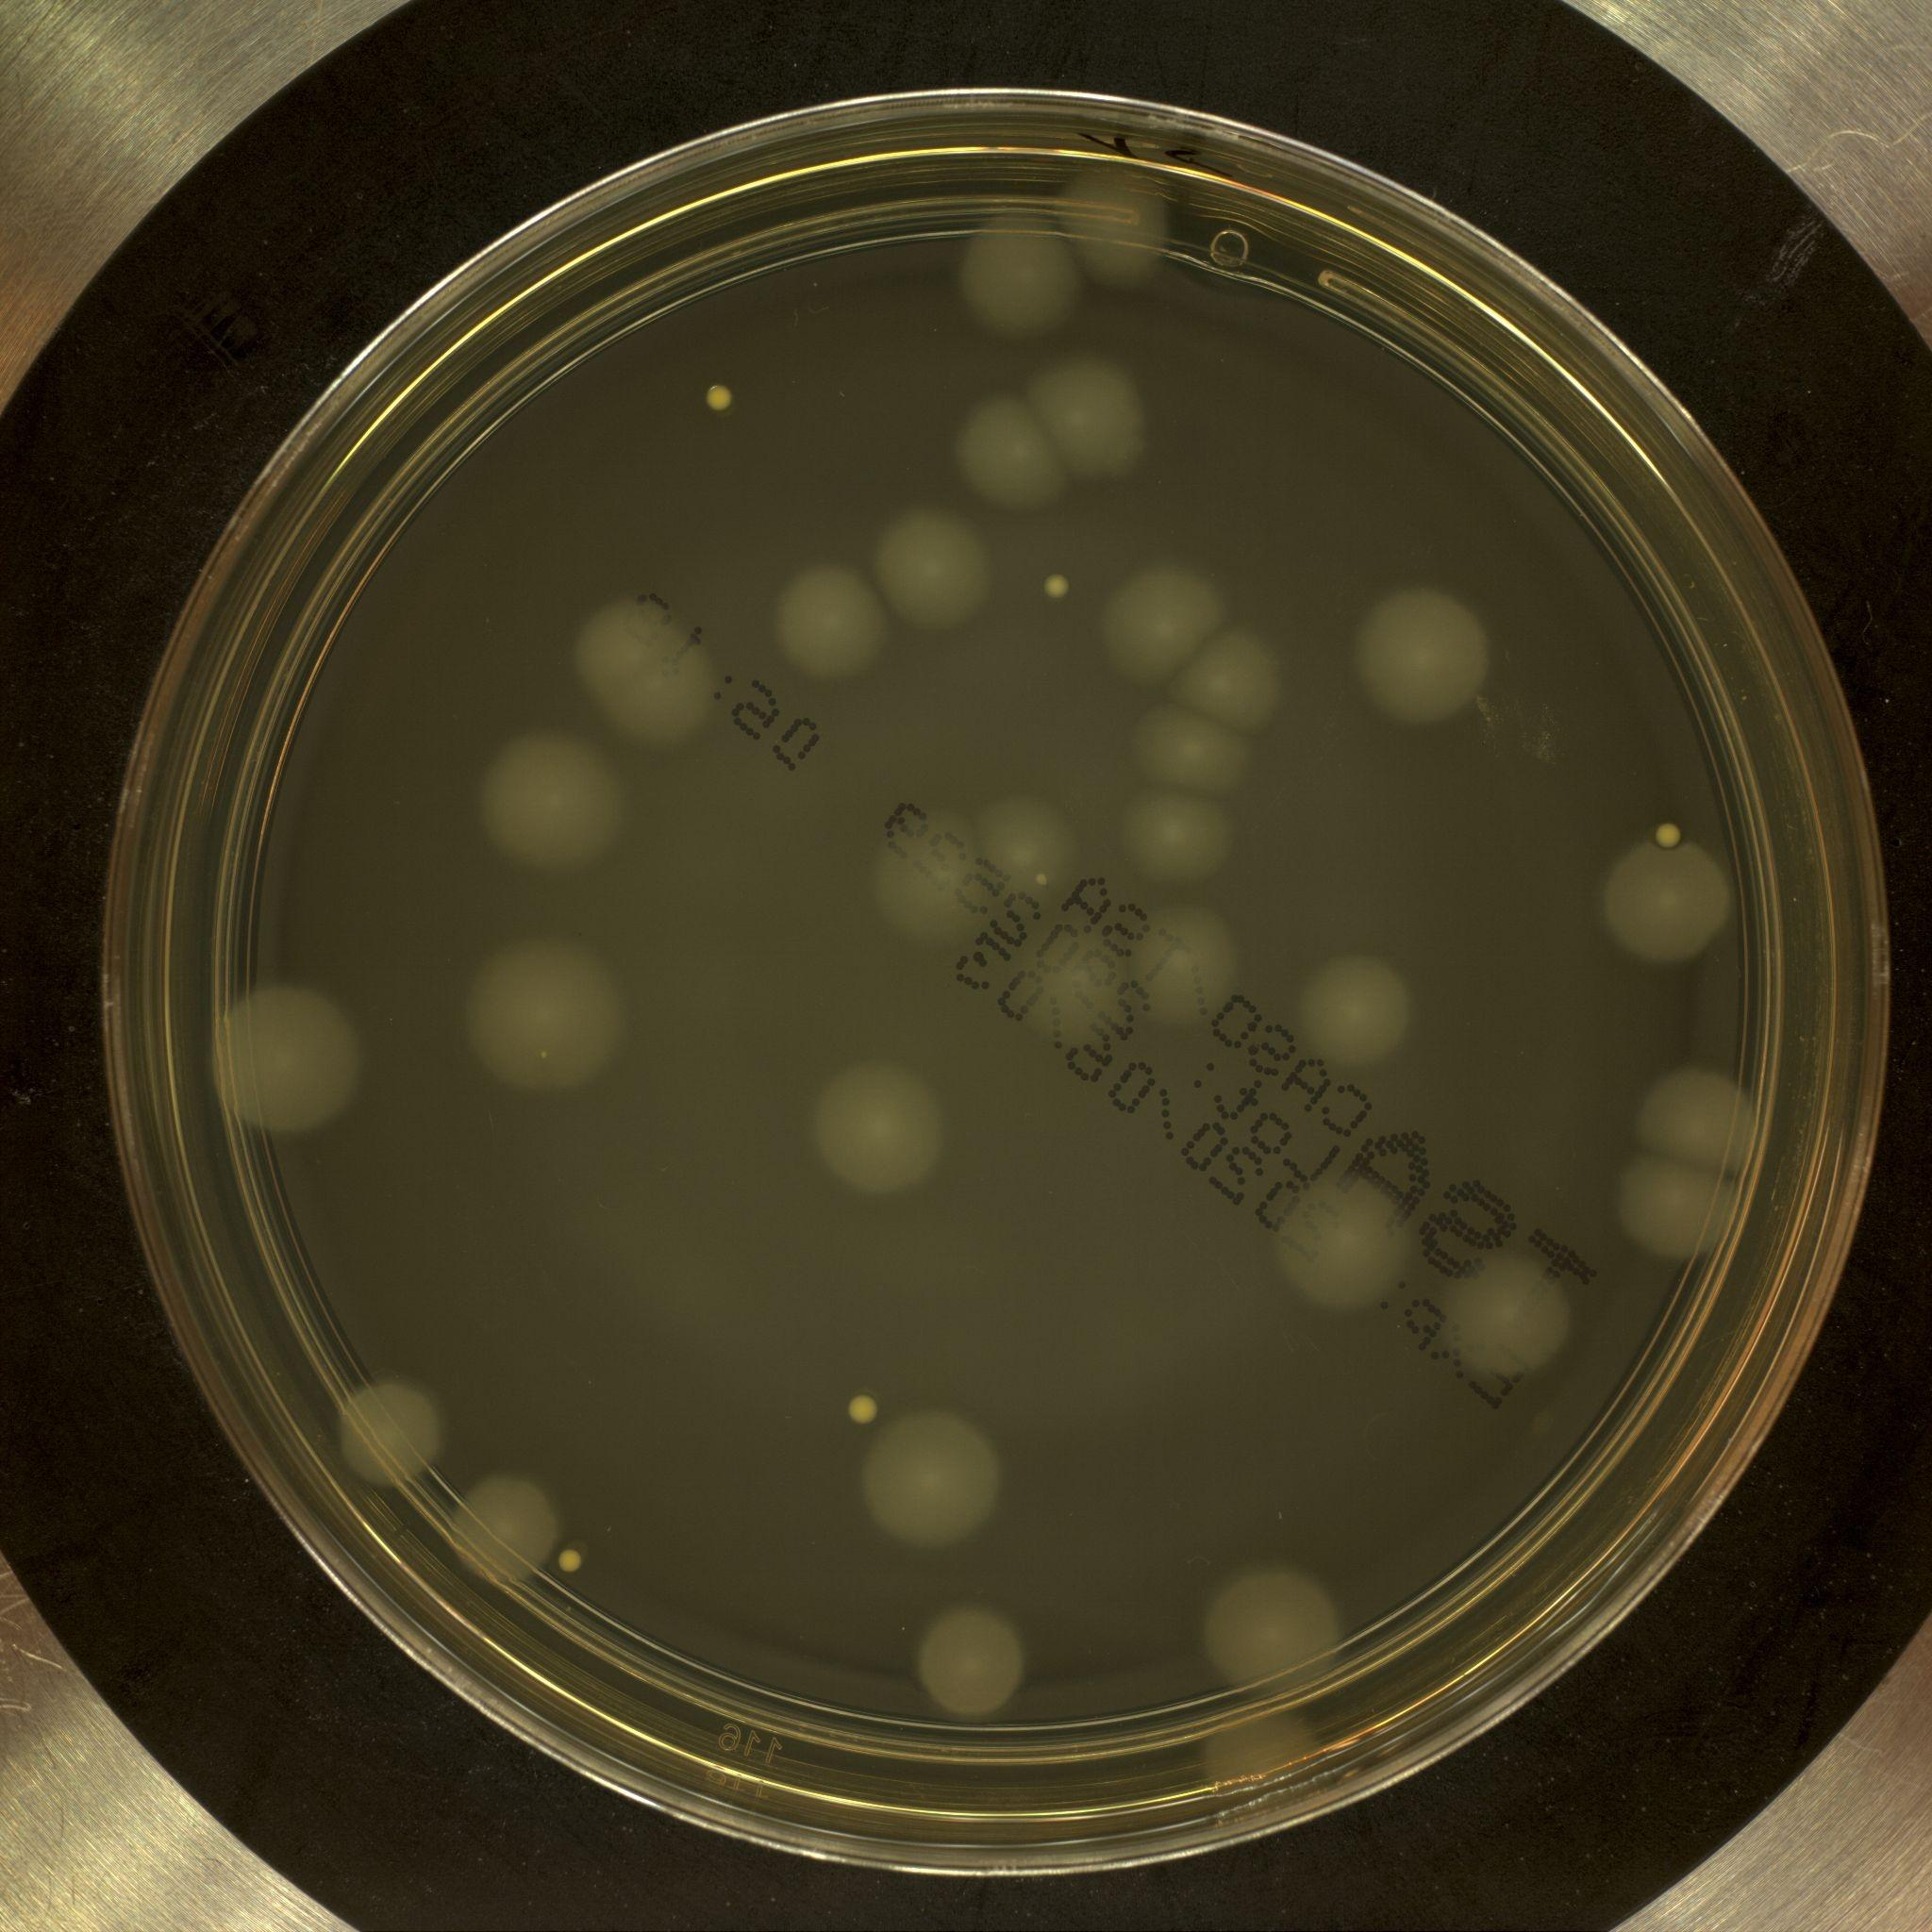e. coli: (464, 950, 635, 1095), (573, 603, 731, 752), (203, 985, 361, 1123), (870, 1396, 1010, 1543), (1362, 591, 1504, 724), (483, 740, 626, 869), (1601, 840, 1737, 971), (1099, 559, 1240, 683), (1640, 1069, 1783, 1185), (1290, 1169, 1412, 1302), (1299, 955, 1422, 1085), (1431, 1254, 1562, 1376), (828, 1063, 947, 1192), (771, 557, 893, 676), (1127, 695, 1249, 812), (879, 826, 994, 947), (327, 1387, 449, 1500), (1039, 359, 1152, 481), (885, 515, 1007, 626), (1219, 1585, 1350, 1688), (1622, 1164, 1755, 1261), (1030, 939, 1139, 1056), (458, 1486, 582, 1589), (916, 1614, 1024, 1727), (957, 219, 1070, 327), (1127, 911, 1240, 1016), (1067, 177, 1177, 283), (1120, 793, 1237, 890), (1184, 639, 1293, 736), (978, 801, 1079, 899), (964, 400, 1060, 497)
